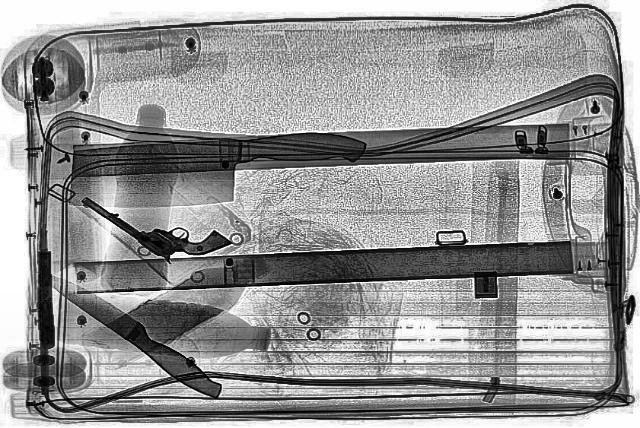Gun: (74, 171, 234, 271)
Knife: (33, 268, 233, 400), (66, 132, 368, 206)
